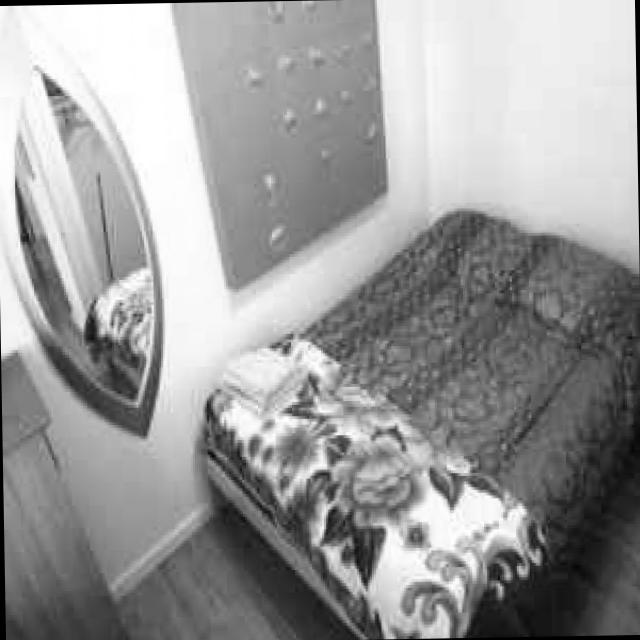bed -occluded-: (202, 208, 636, 637)
floor -X: (63, 325, 640, 639)
furniture occluded: (3, 349, 129, 640)
mirror crop: (0, 5, 160, 435)
picture crop: (167, 0, 386, 283)
wall clock: (0, 1, 435, 640), (419, 0, 637, 378)
